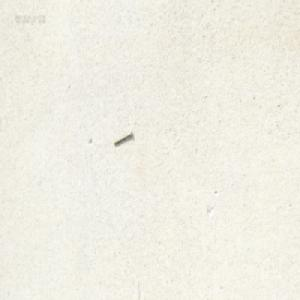Bolt: (113, 130, 132, 146)
